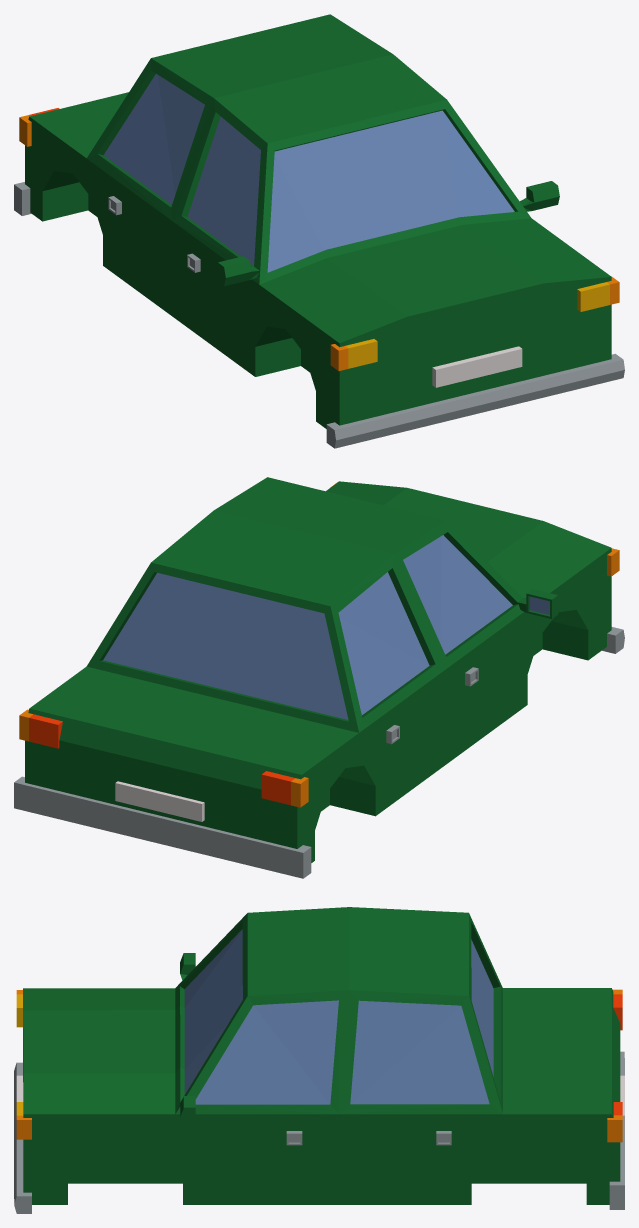
File: Car_01.fbx
3 renders of one model, top to bottom at view 1: azimuth 30°, elevation 25°; view 2: azimuth 150°, elevation 25°; view 3: azimuth 270°, elevation 25°, orthographic. The views are drawn at different scales.
Parts seen in each view (by area): view 1: Car_01; view 2: Car_01; view 3: Car_01.
Boxes of the visible parts, x1,y1,x2,y2 form: Car_01: (14,14,624,448); Car_01: (14,477,624,878); Car_01: (14,907,624,1213).
Bounding box in the file's own units: 4.02 × 2.4 × 6.71.
